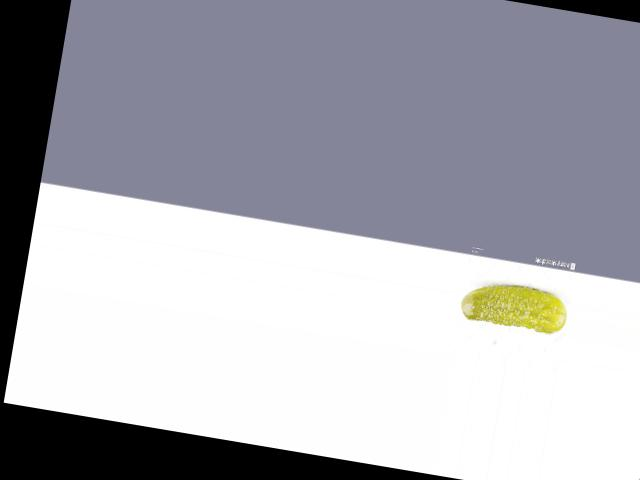cucumber: (457, 276, 570, 336)
